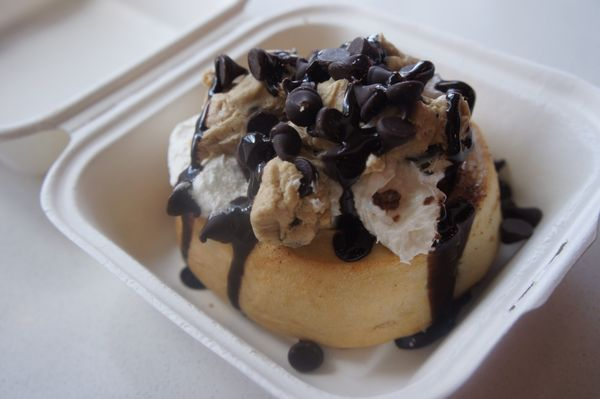sushi: (34, 13, 578, 393)
